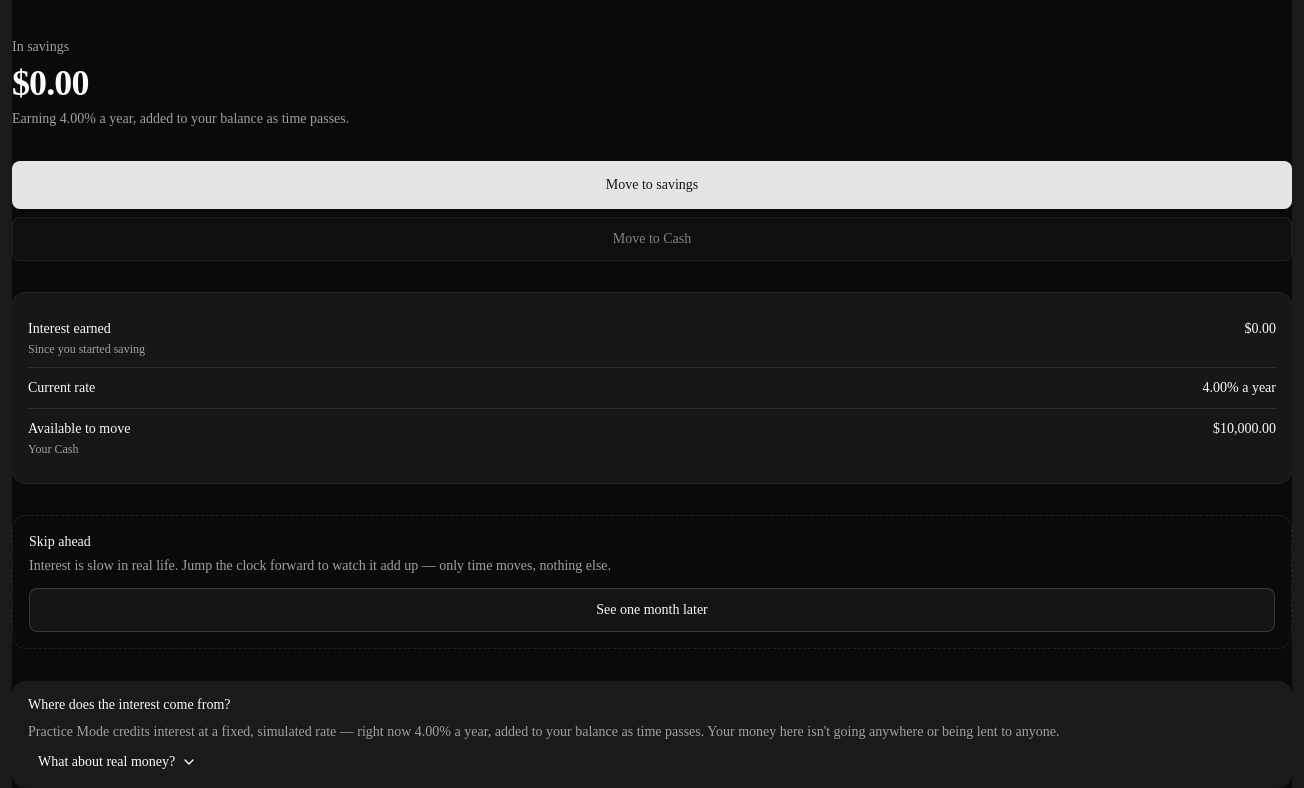
SaveView › explains where interest comes from honestly, with the real-money detail a tap away
This screenshot has width=1304, height=788.
(page scrolled)
expect the text "Where does the interest come from?" is shown: met, box 28,697 -> 230,712
expect the text "isn't going anywhere or being lent to anyone" is shown: met, box 451,724 -> 1060,739
Click the button "What about real money?". click: (118, 762)
box: 28,752 -> 207,772
(page scrolled)
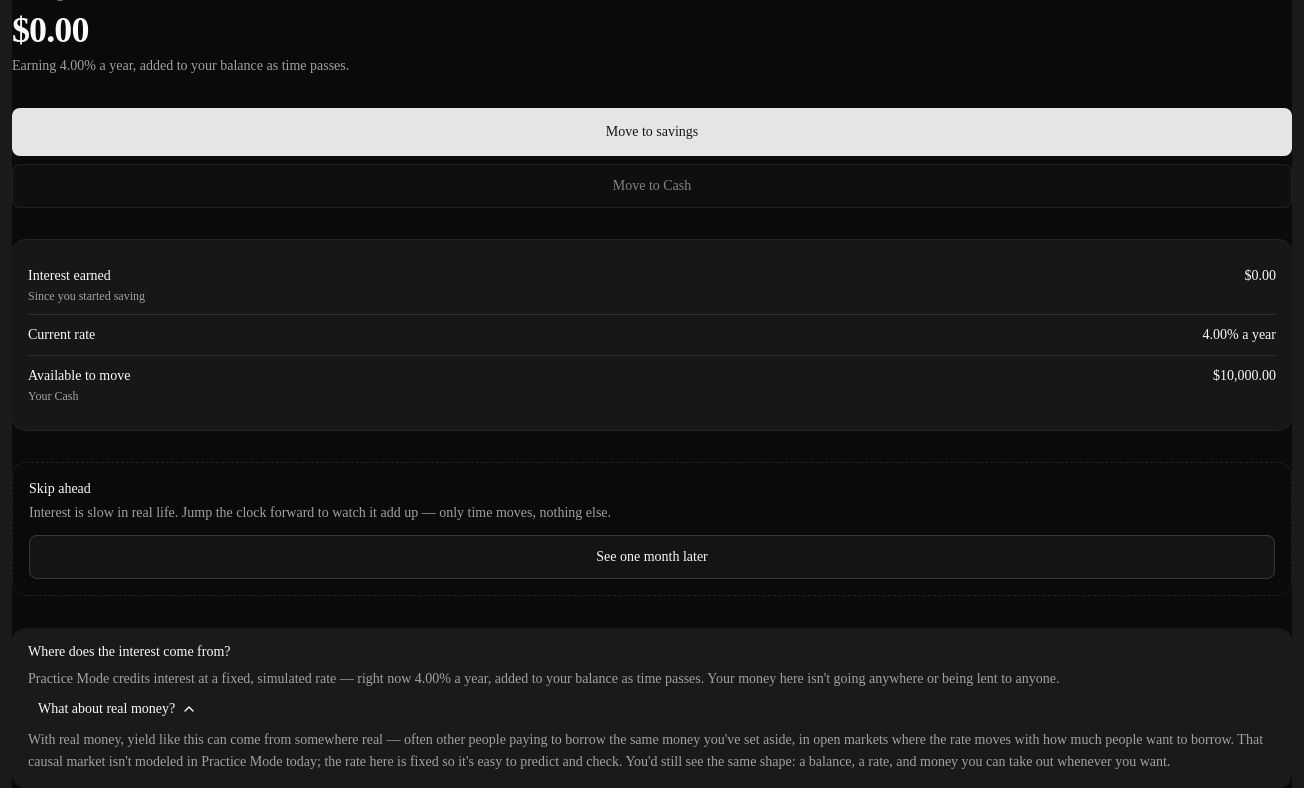
expect the button "What about real money?" is expanded: met, box 28,699 -> 207,719
expect the text "that causal market isn't modeled in Practice Mode today" is shown: met, box 28,732 -> 1263,769
